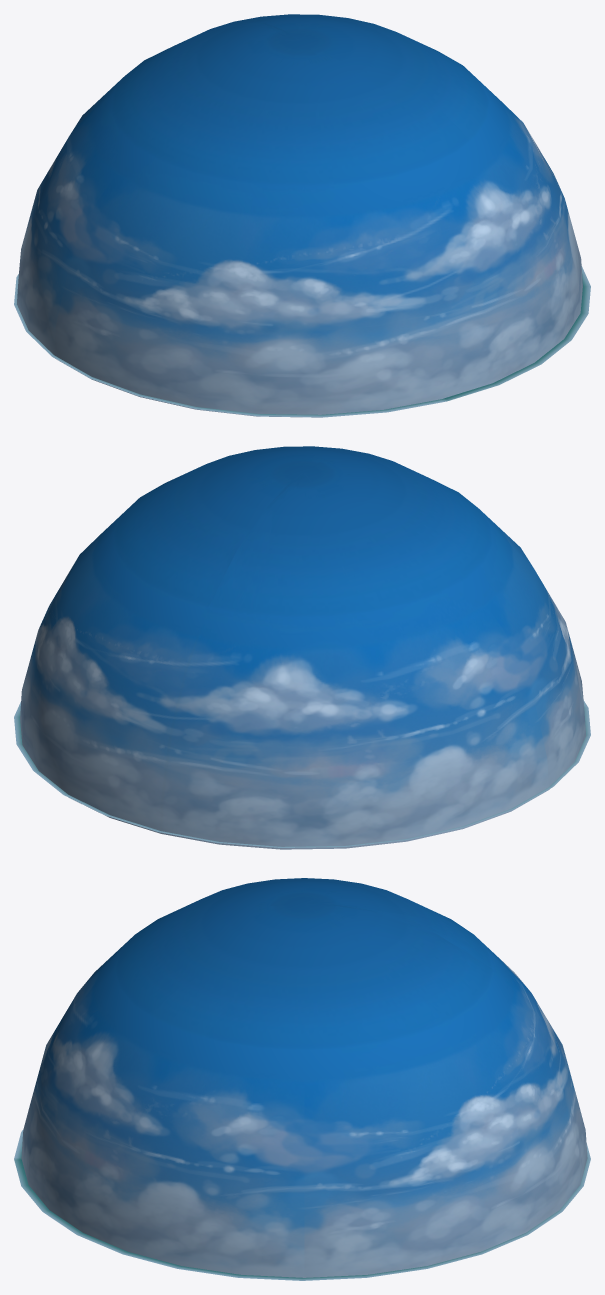
File: seafront.obj
3 views of the same model, one above another, from view 1: azimuth 30°, elevation 25°; view 2: azimuth 150°, elevation 25°; view 3: azimuth 270°, elevation 25° (orthographic).
Parts seen in each view (by area): view 1: Sky, Sea; view 2: Sky, Sea; view 3: Sky, Sea.
Part boxes in pixels (box(x1,y1,x2,y2)): Sky: box(17, 14, 582, 417); Sea: box(14, 266, 590, 417); Sky: box(20, 446, 585, 849); Sea: box(14, 700, 590, 847); Sky: box(21, 878, 587, 1277); Sea: box(14, 1130, 590, 1280).
Size of the model in its own units: 17.12 by 9.14 by 17.12.
5 materials, 5 textured.
